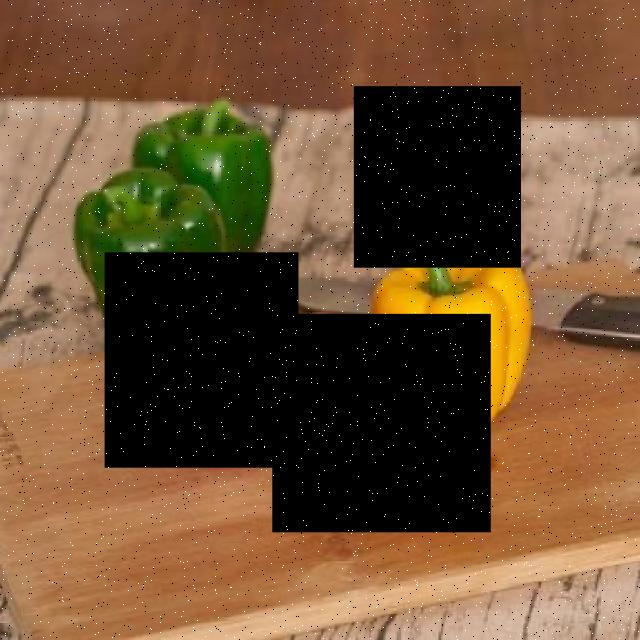Capsicum: (272, 315, 491, 533), (104, 252, 298, 468), (354, 86, 520, 268)
